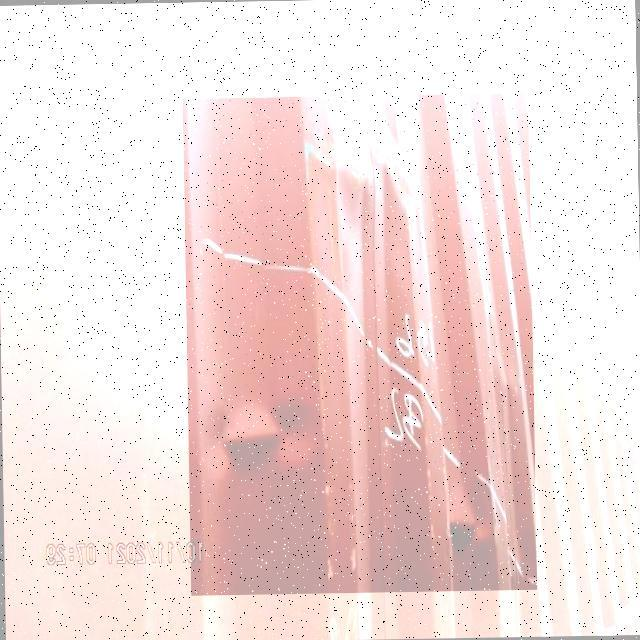Dent: (182, 93, 537, 596)
